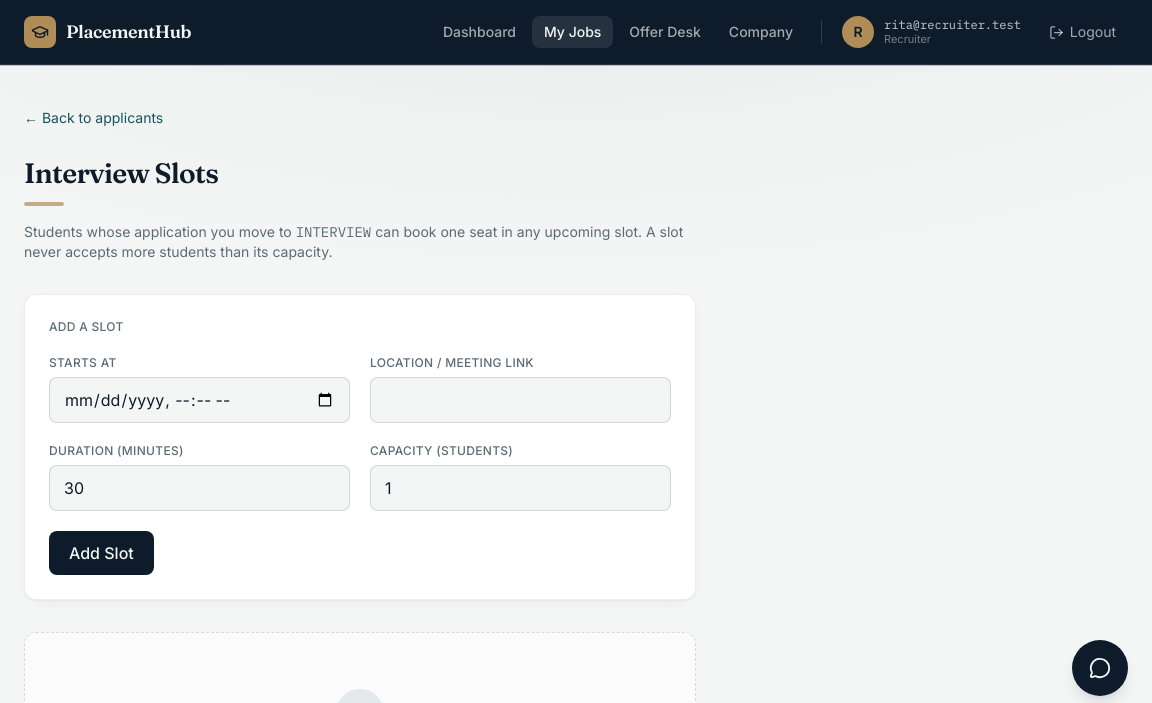
Test case: Interview slots page › shows why a slot was refused
Type "2026-11-02T10:00" into the field below "Starts at".
click(200, 400); type("2026-11-02T10:00")  # box 49,377 -> 350,423
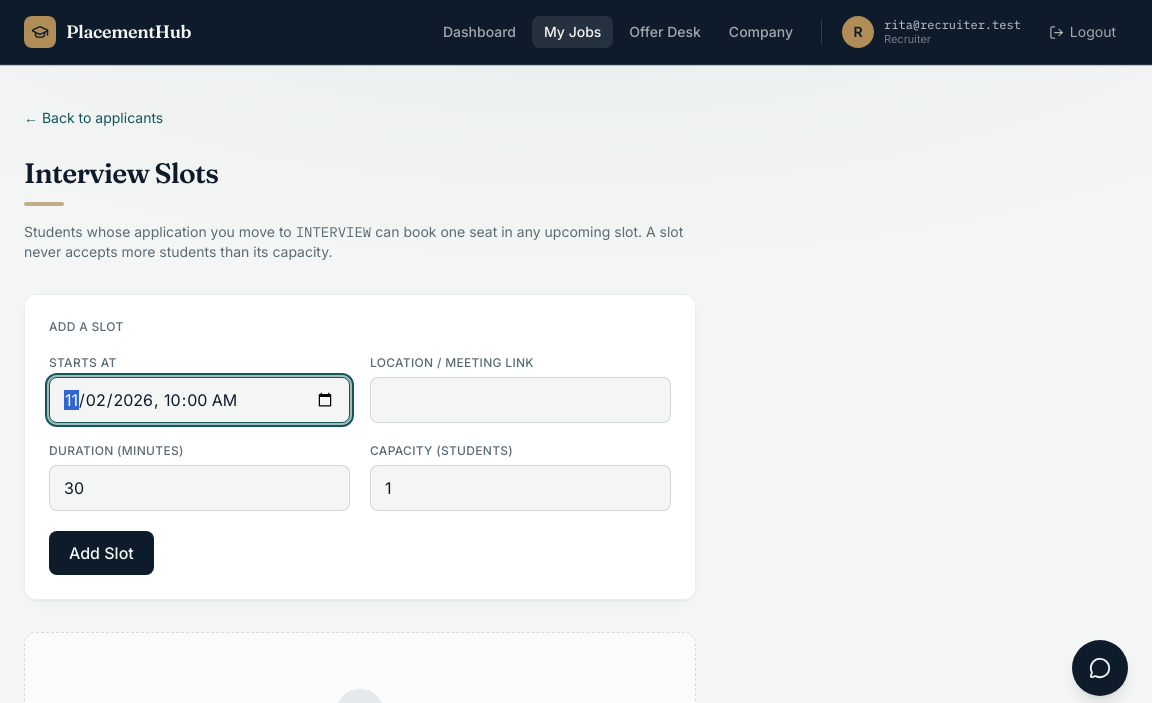
Replace the text in the number field below "Capacity (students)" with "3" at (520, 488), box 370,465 -> 671,511
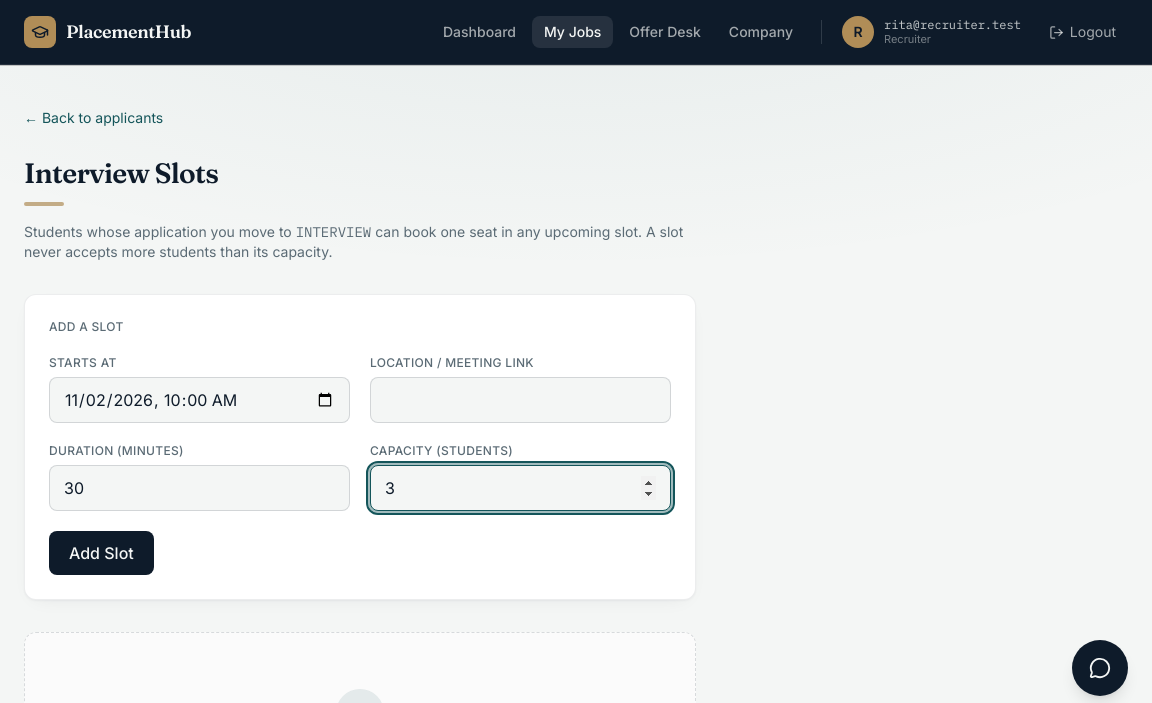
Type "Room 4" into the field below "Location / meeting link".
click(520, 400); type("Room 4")  # box 370,377 -> 671,423
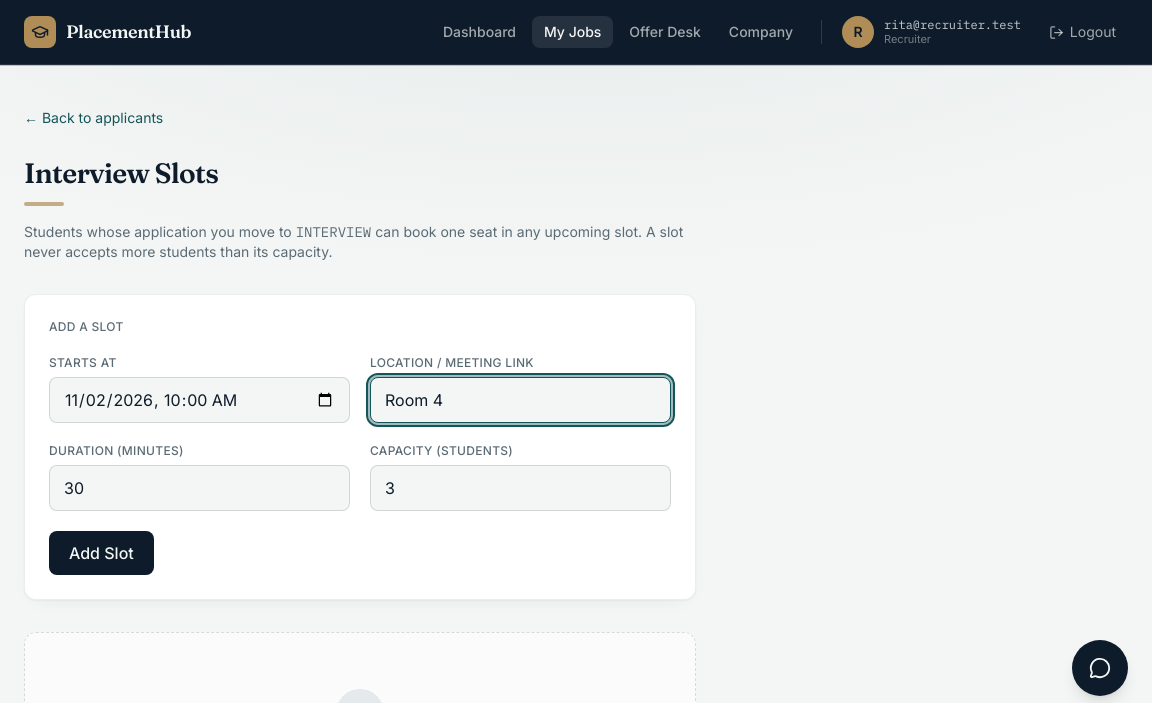
Click the button "Add Slot".
click(101, 553)  # box 49,531 -> 154,575
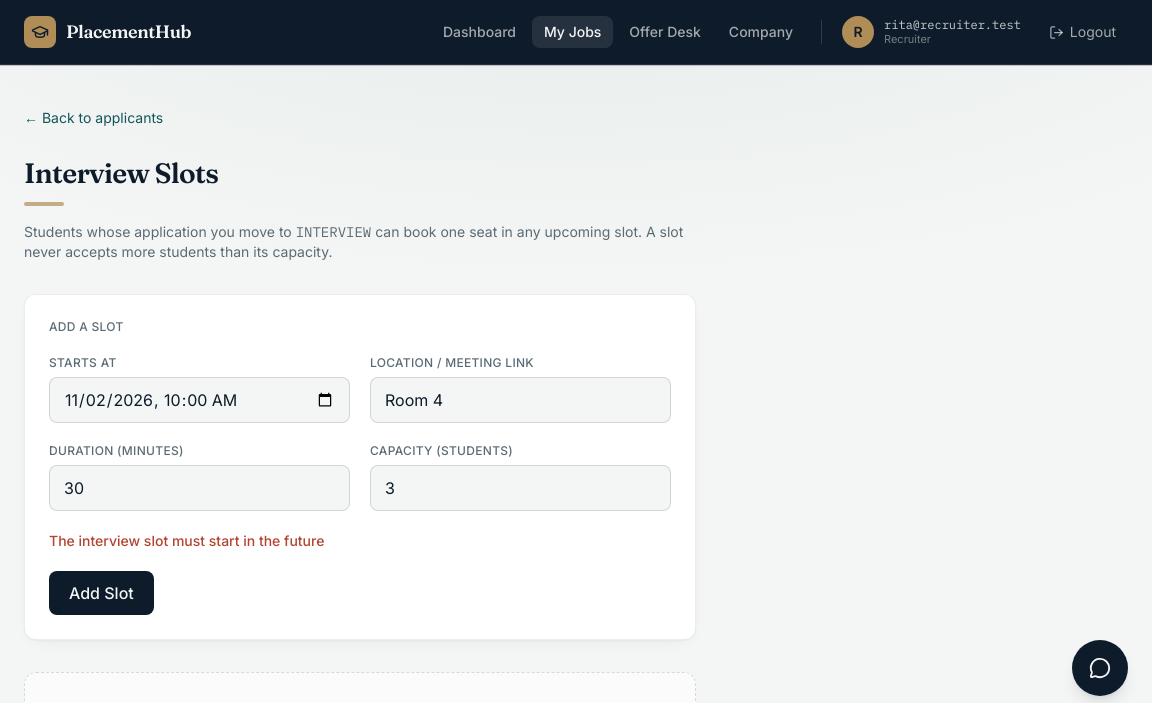
Expected: the text "The interview slot must start in the future" is shown, 49,532 -> 324,549
